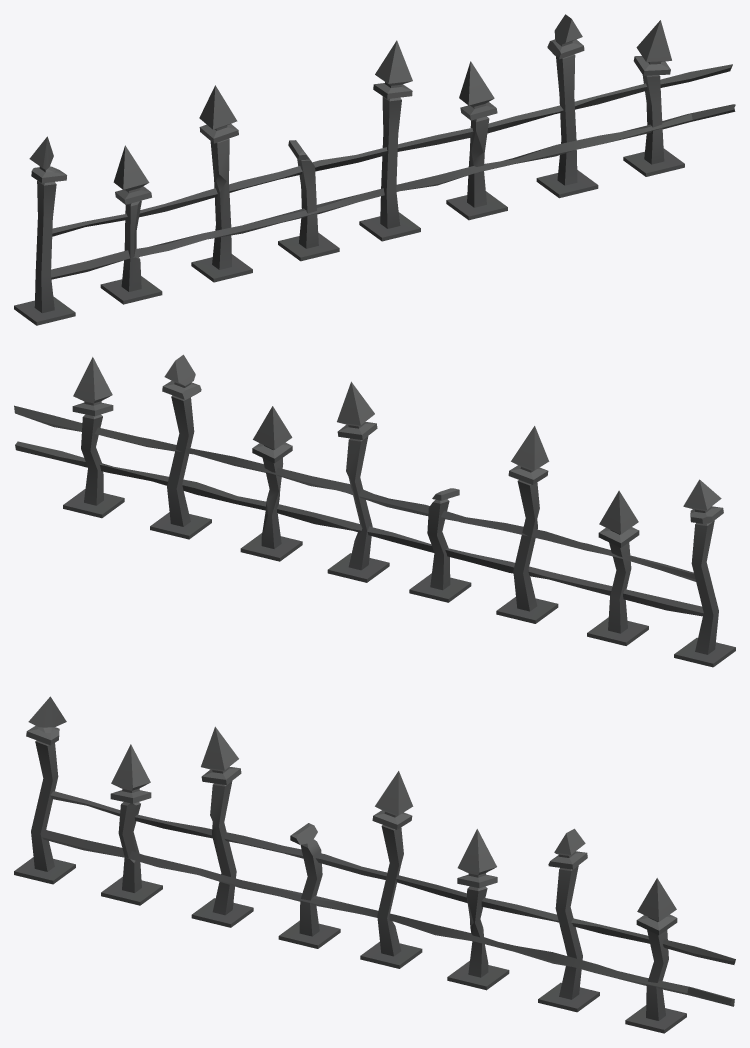
Rendered from graveyard_hedge_cracked.fbx.
3 views of the same model, one above another, from view 1: azimuth 30°, elevation 25°; view 2: azimuth 150°, elevation 25°; view 3: azimuth 330°, elevation 25° (orthographic).
Visible parts, largest first — view 1: pCube6, pCube2, pCube14, pCube12, pCube7, pCube17, pCube16, pCube15, pCube8, pCube13; view 2: pCube6, pCube2, pCube12, pCube14, pCube7, pCube17, pCube16, pCube8, pCube15, pCube13; view 3: pCube6, pCube2, pCube12, pCube14, pCube7, pCube17, pCube8, pCube16, pCube15, pCube13.
Part boxes in pixels (<box>): pCube6: <box>51,104,735,279</box>; pCube2: <box>52,64,732,236</box>; pCube14: <box>359,40,420,241</box>; pCube12: <box>191,85,252,282</box>; pCube7: <box>14,136,75,325</box>; pCube17: <box>536,14,598,198</box>; pCube16: <box>623,20,684,176</box>; pCube15: <box>446,61,507,220</box>; pCube8: <box>100,145,162,304</box>; pCube13: <box>278,140,339,261</box>; pCube6: <box>15,441,703,616</box>; pCube2: <box>14,405,695,581</box>; pCube12: <box>496,426,558,623</box>; pCube14: <box>327,381,389,582</box>; pCube7: <box>674,479,735,667</box>; pCube17: <box>150,354,211,539</box>; pCube16: <box>63,357,124,518</box>; pCube8: <box>587,490,648,645</box>; pCube15: <box>240,406,302,561</box>; pCube13: <box>409,488,471,602</box>; pCube6: <box>42,829,734,1006</box>; pCube2: <box>50,791,735,964</box>; pCube12: <box>191,726,253,927</box>; pCube14: <box>360,771,422,968</box>; pCube7: <box>14,696,75,884</box>; pCube17: <box>538,828,599,1012</box>; pCube8: <box>101,744,162,905</box>; pCube16: <box>625,878,686,1033</box>; pCube15: <box>447,829,509,990</box>; pCube13: <box>278,823,340,948</box>.
Bounding box in the file's own units: 97.62 × 24.56 × 5.39.
